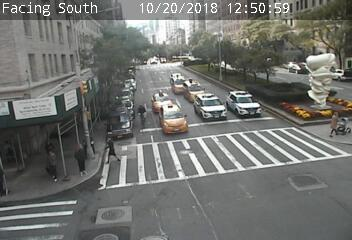car: (195, 94, 228, 121), (227, 92, 262, 117), (160, 106, 188, 134), (184, 81, 205, 100), (153, 92, 173, 110), (171, 76, 187, 92)
